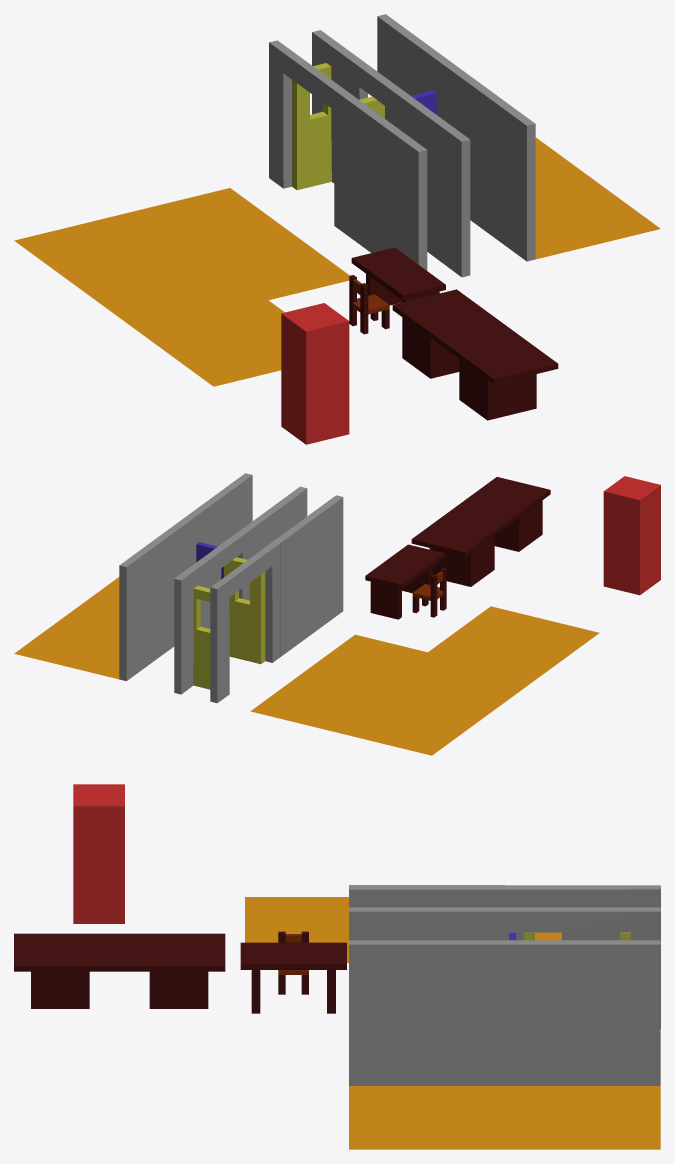
Rendered from Assetfbx.fbx.
3 renders of one model, top to bottom at view 1: azimuth 30°, elevation 25°; view 2: azimuth 150°, elevation 25°; view 3: azimuth 270°, elevation 25°, orthographic. The views are drawn at different scales.
Visible parts, largest first — view 1: pol.014, stena.001, stol.l, doorblue), stena.004, shkavchik, pol, pol.004, door(yellow).005, door(yellow).003, stol.001, styl; view 2: pol.014, stena.001, stol.l, stena.004, pol.004, doorblue), shkavchik, pol, door(yellow).005, stol.001, door(yellow).004, door(yellow).003 (+1 smaller); view 3: stena.001, pol, stol.l, doorblue), shkavchik, pol.004, stol.001, door(yellow).005, stena.004, styl.
Part boxes in pixels (box(x1,y1,x2,y2)): pol.014: box(14, 188, 349, 331); stena.001: box(377, 14, 535, 261); stol.l: box(392, 289, 558, 420); doorblue): box(312, 30, 470, 277); stena.004: box(344, 95, 427, 270); shkavchik: box(281, 303, 349, 444); pol: box(535, 137, 660, 259); pol.004: box(139, 300, 284, 386); door(yellow).005: box(269, 40, 352, 232); door(yellow).003: box(292, 63, 331, 190); stol.001: box(351, 247, 445, 305); styl: box(349, 275, 389, 334); pol.014: box(250, 634, 536, 755); stena.001: box(119, 473, 252, 680); stol.l: box(411, 477, 550, 586); stena.004: box(273, 495, 343, 656); pol.004: box(428, 606, 599, 678); doorblue): box(174, 486, 307, 694); shkavchik: box(603, 476, 660, 595); pol: box(14, 577, 119, 679); door(yellow).005: box(210, 541, 280, 703); stol.001: box(365, 544, 444, 619); door(yellow).004: box(224, 557, 265, 664); door(yellow).003: box(193, 585, 210, 689); stena.001: box(349, 940, 660, 1085); pol: box(349, 1086, 660, 1149); stol.l: box(14, 933, 225, 1008); doorblue): box(349, 907, 660, 940); shkavchik: box(73, 784, 124, 923); pol.004: box(245, 897, 348, 962); stol.001: box(240, 942, 346, 1013); door(yellow).005: box(505, 885, 660, 1028); stena.004: box(349, 885, 504, 907); styl: box(278, 931, 308, 994).
Bounding box in the file's own units: 2300 × 602 × 2491.
